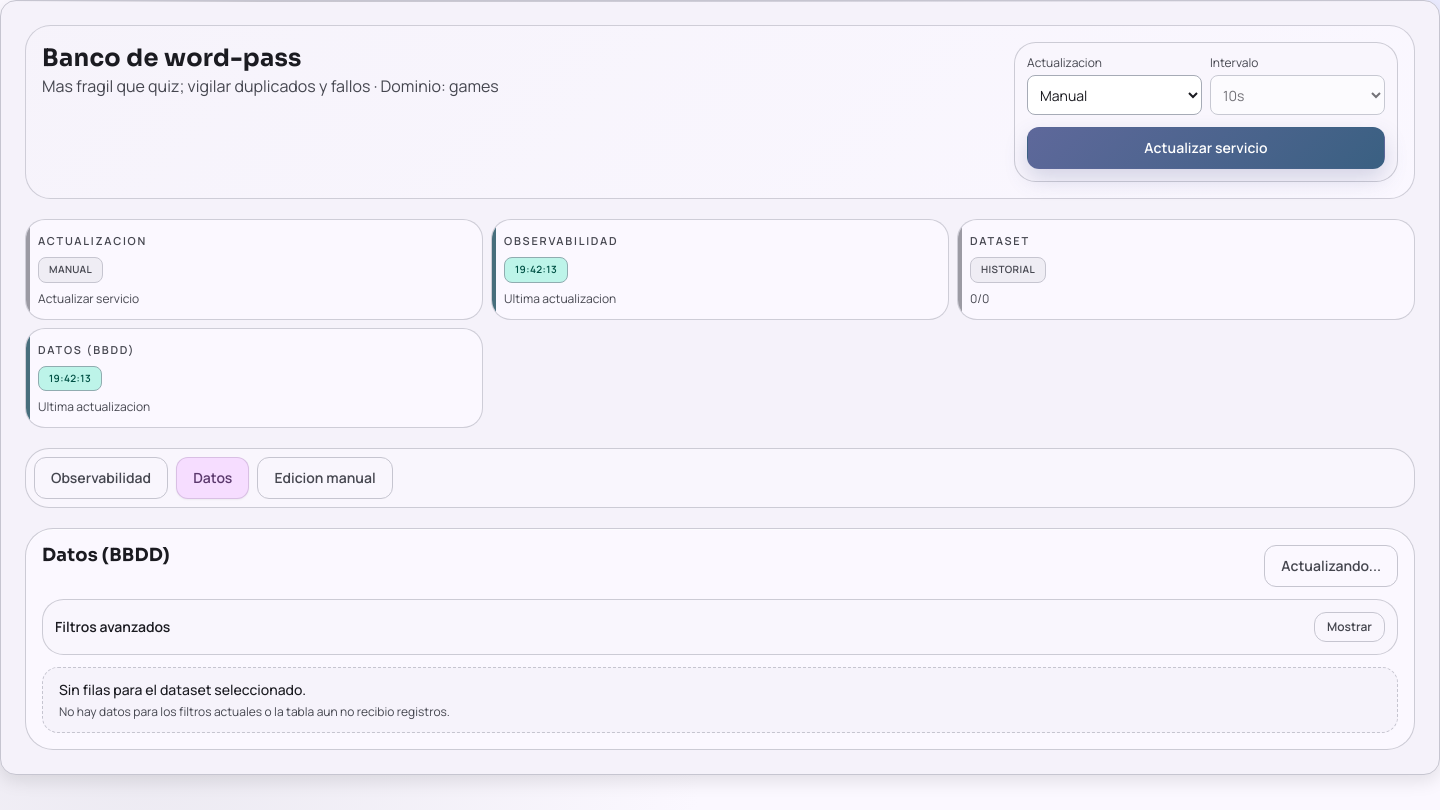
it: ServiceConsolePanel integration › shows validation errors for invalid manual json payload
Click the tab "Edicion manual": [325, 478] box [257, 457, 393, 499]
(page scrolled)
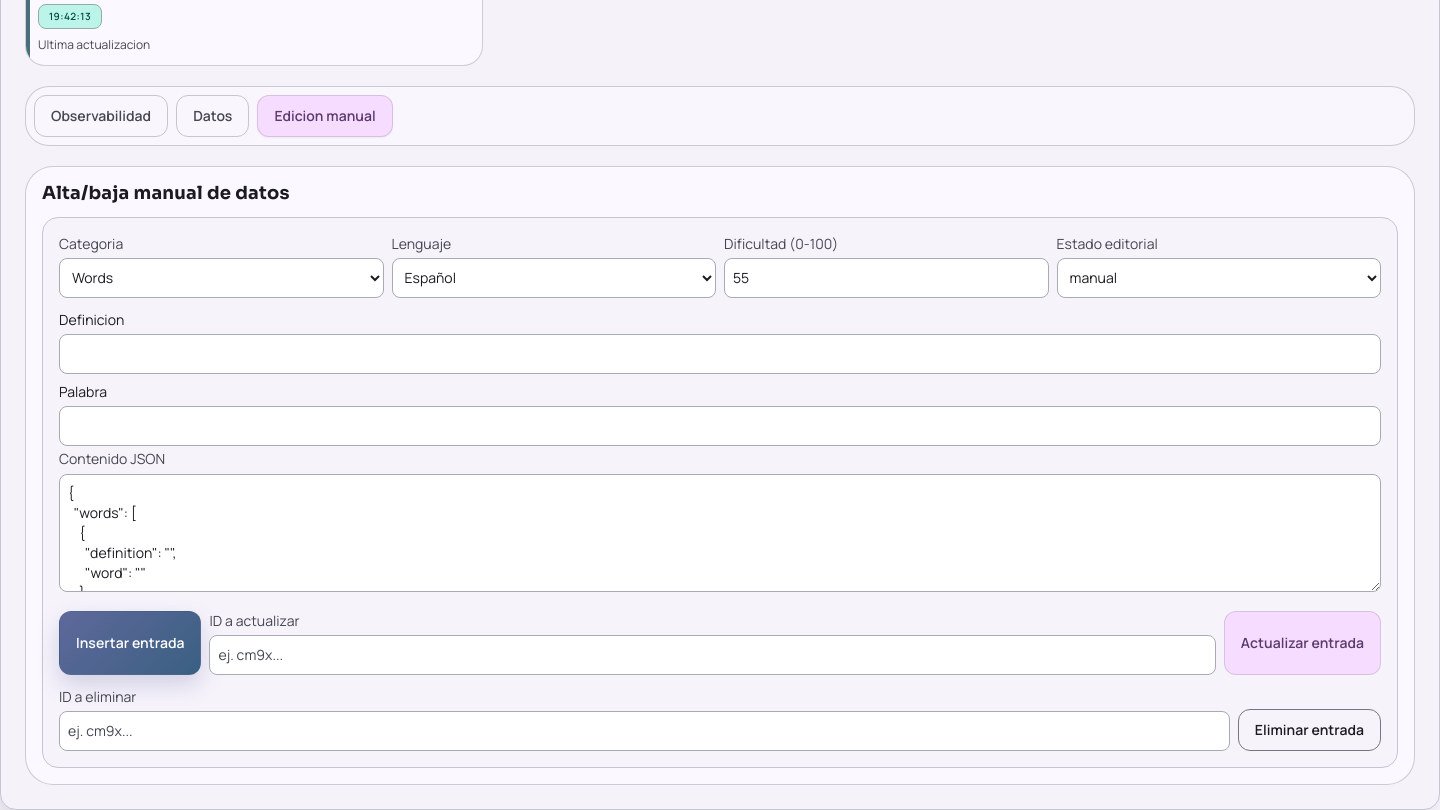
Replace the text in the text box labelled "Contenido JSON" with "[]": [720, 534] box [59, 474, 1381, 592]
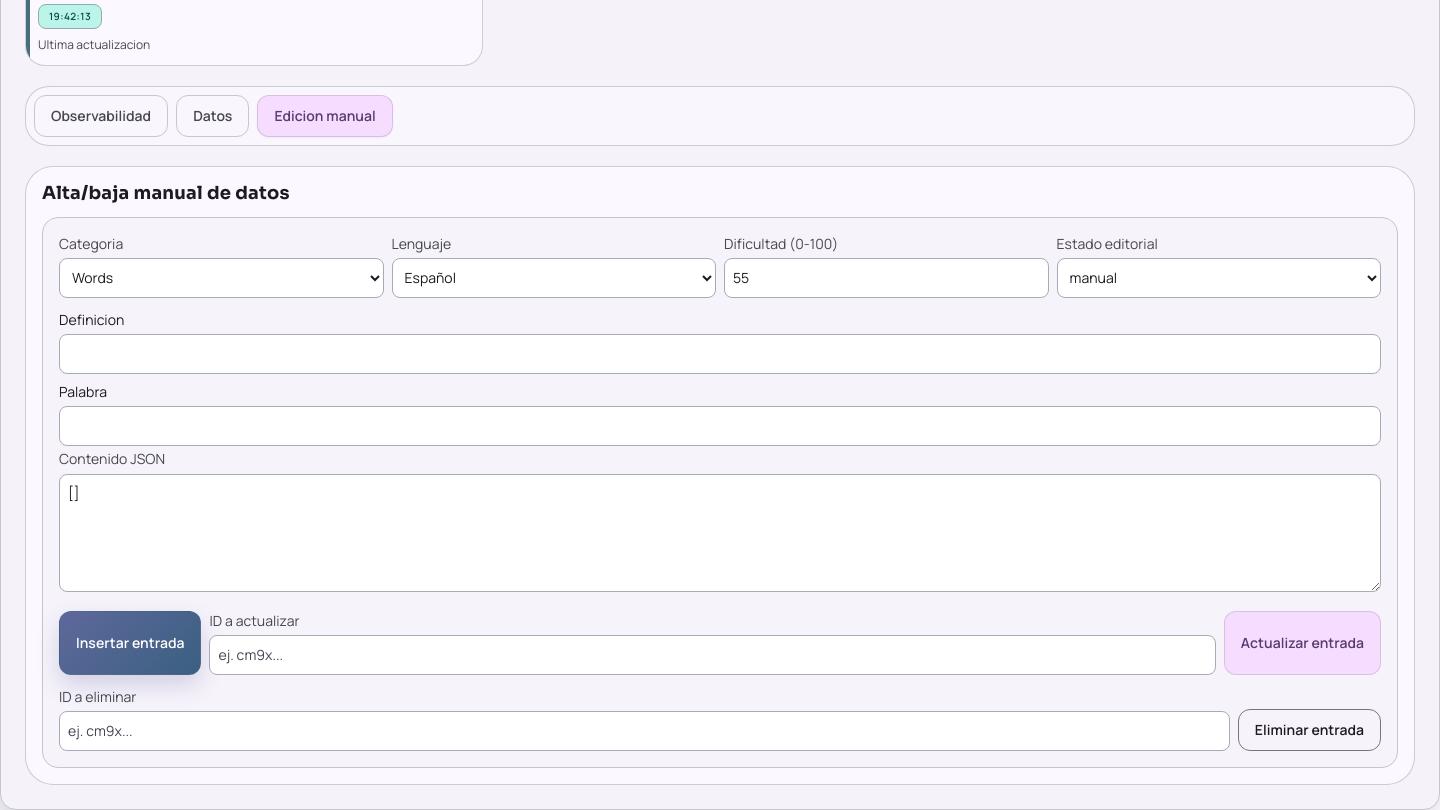
Click the button "Insertar entrada": [130, 643] box [59, 611, 202, 675]
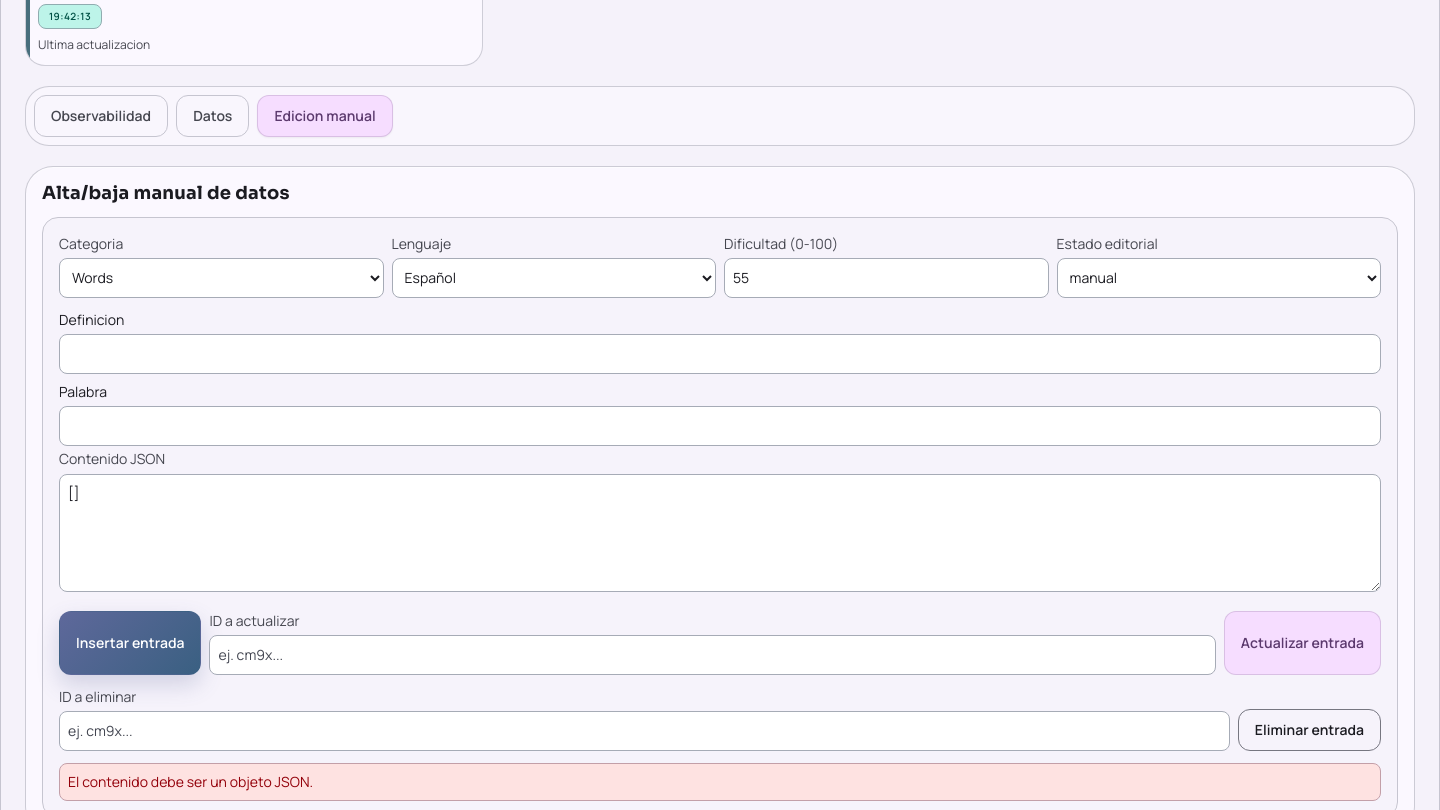
Now the text "El contenido debe ser un objeto JSON." is shown, box [59, 763, 1381, 801]
